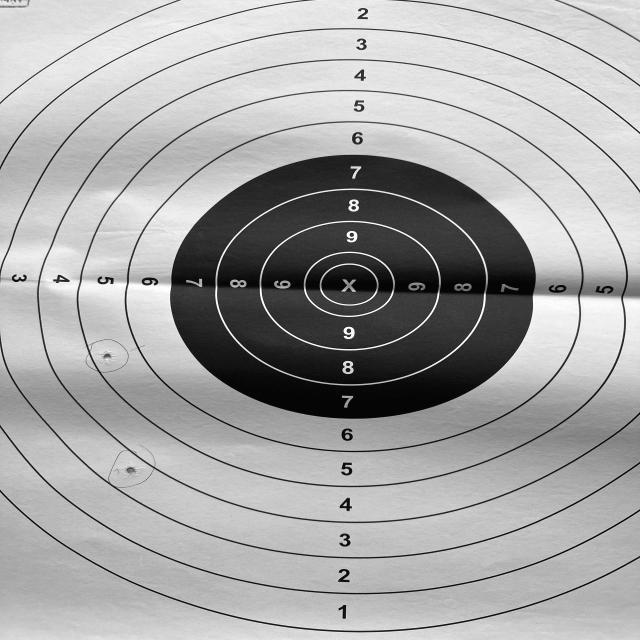bullet: (124, 464, 136, 476), (100, 352, 112, 364)
